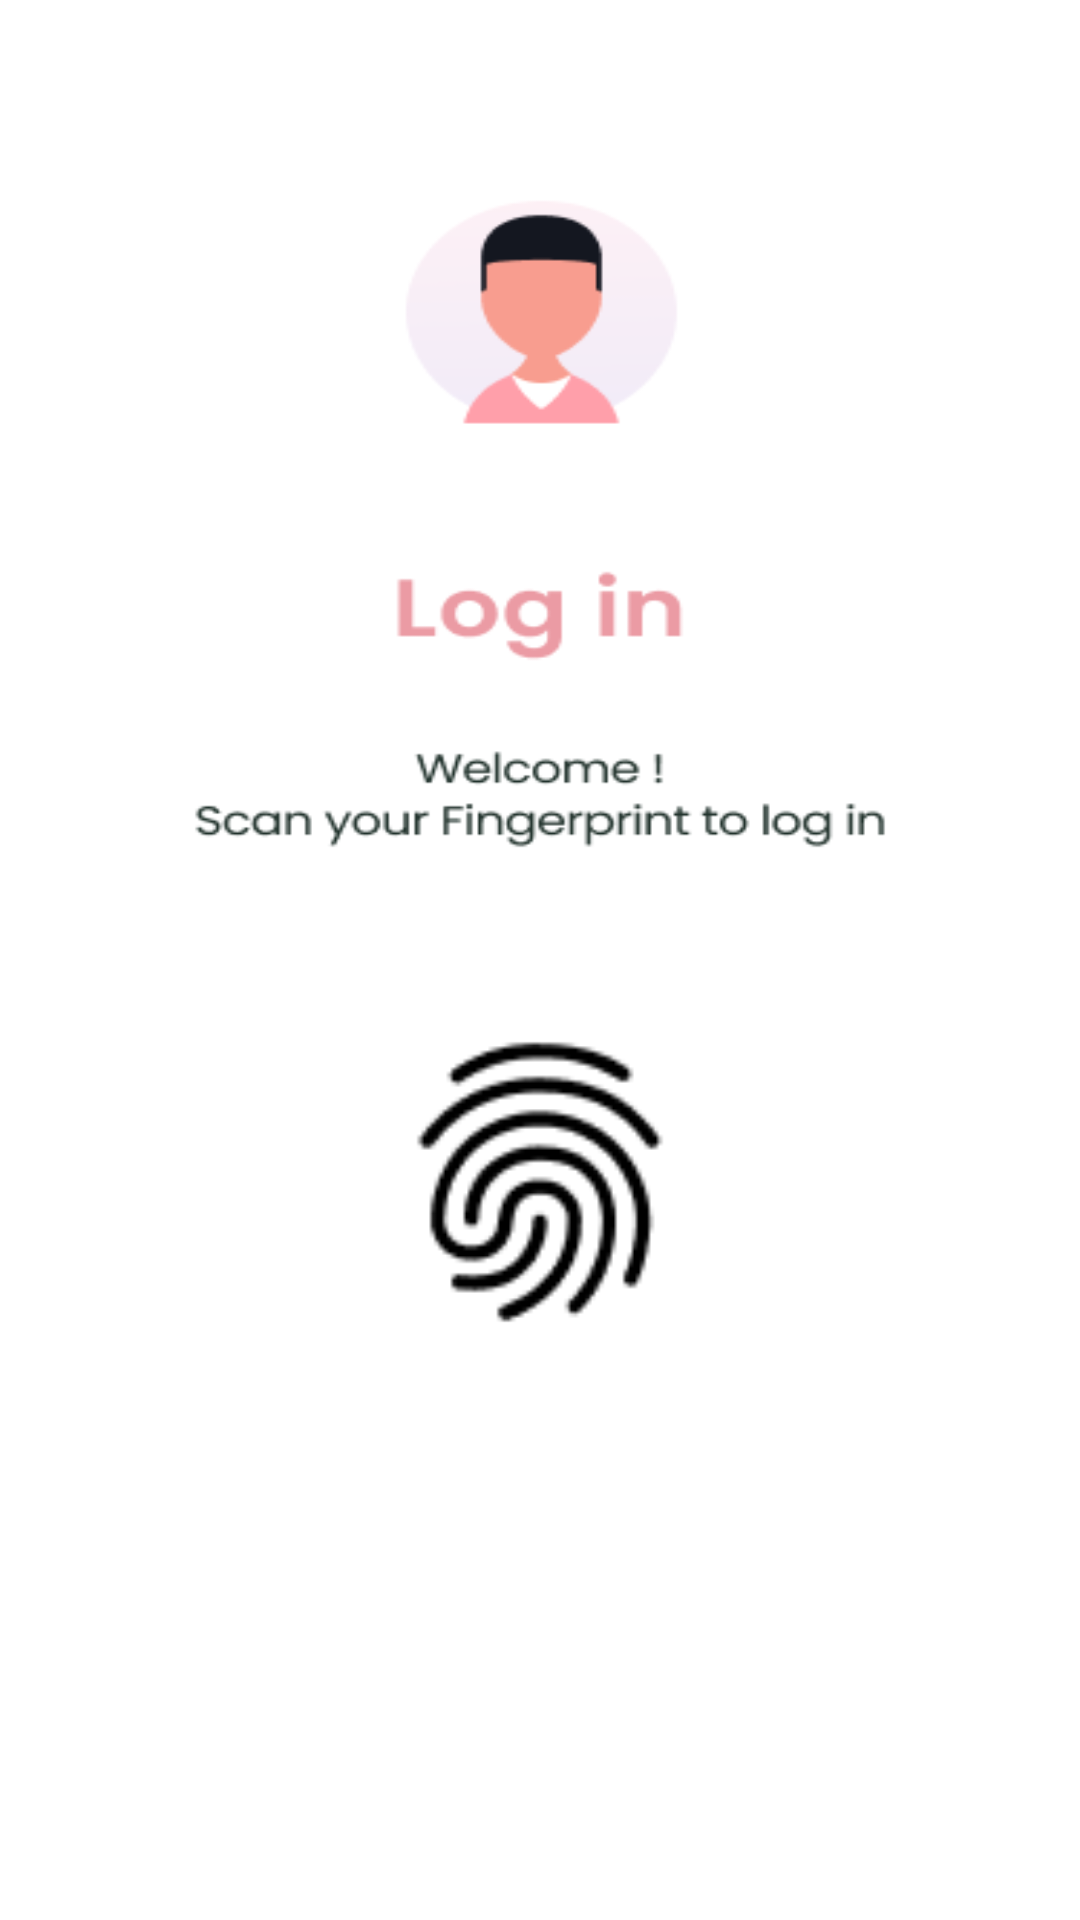

Screen size 1080 x 1920. Icon name, then its center in pixels as (x,y):
fingerprint: (540,1182)
